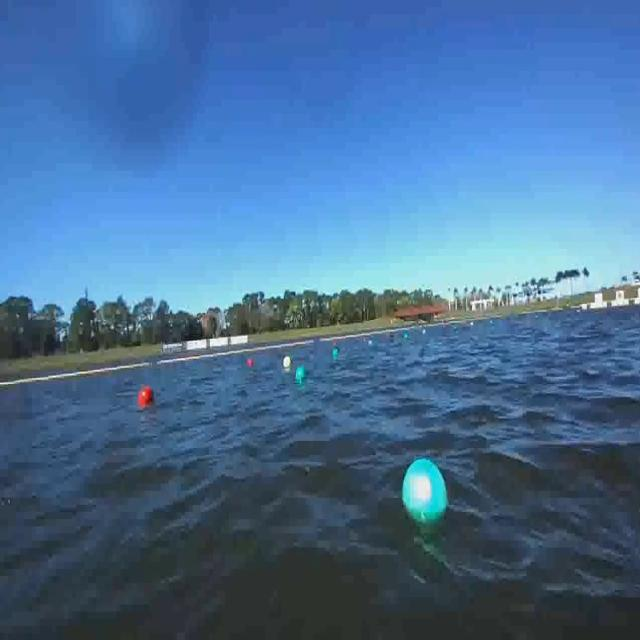green-buoy: (402, 457, 448, 527), (296, 364, 306, 380), (332, 348, 342, 362)
red-buoy: (139, 384, 156, 406), (247, 358, 254, 368)
